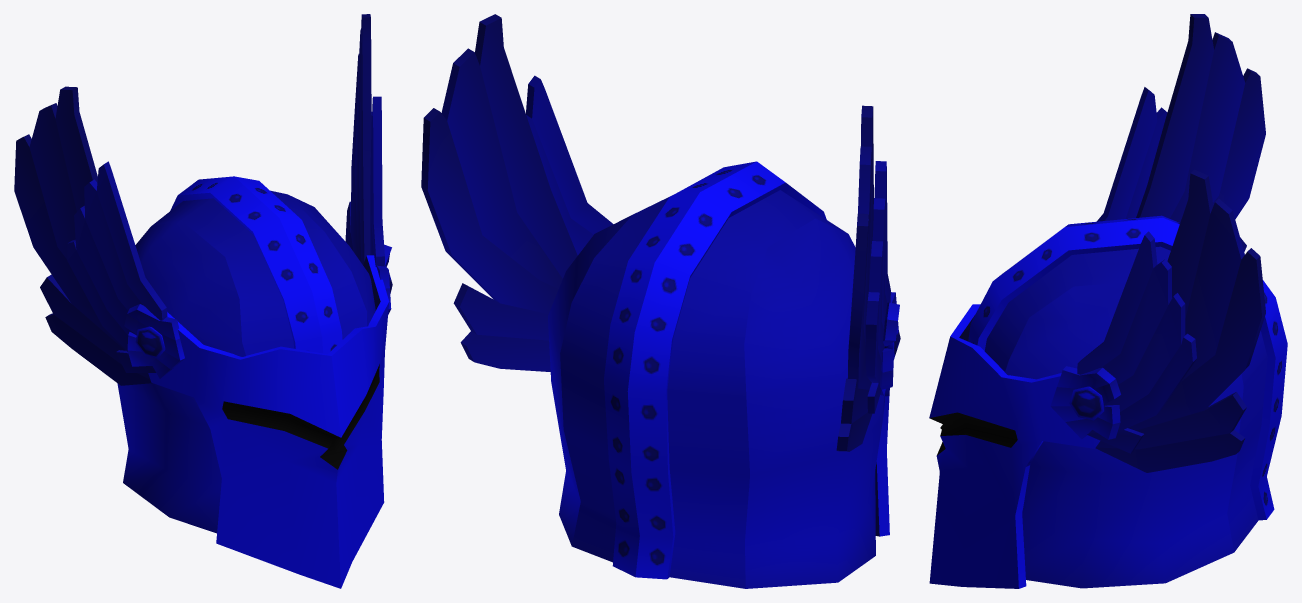
Rendered from WingedHelm.fbx.
3 renders of one model, left to right at view 1: azimuth 30°, elevation 25°; view 2: azimuth 150°, elevation 25°; view 3: azimuth 270°, elevation 25°, orthographic. The views are drawn at different scales.
Parts seen in each view (by area): view 1: WingedHelm, WingedHelm_Visor, WingedHelm_Wings; view 2: WingedHelm, WingedHelm_Wings, WingedHelm_Visor; view 3: WingedHelm_Wings, WingedHelm, WingedHelm_Visor.
Part boxes in pixels (box(x1,y1,x2,y2)): WingedHelm: box(117, 176, 375, 533); WingedHelm_Visor: box(135, 255, 392, 588); WingedHelm_Wings: box(14, 14, 391, 385); WingedHelm: box(548, 161, 885, 588); WingedHelm_Wings: box(421, 14, 899, 451); WingedHelm_Visor: box(875, 326, 900, 536); WingedHelm_Wings: box(1050, 14, 1265, 472); WingedHelm: box(968, 215, 1287, 588); WingedHelm_Visor: box(929, 304, 1104, 588).
Size of the model in its own units: 40.95 by 49.98 by 33.14.
